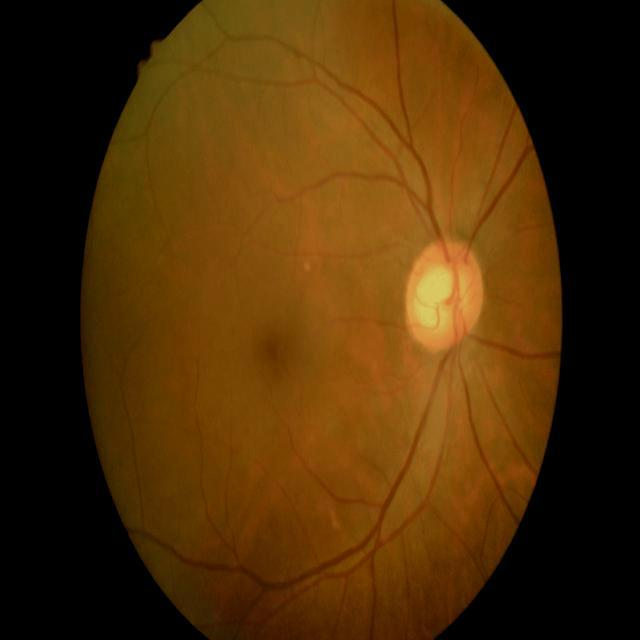cup: (413, 262, 469, 332)
disk: (406, 240, 484, 352)
